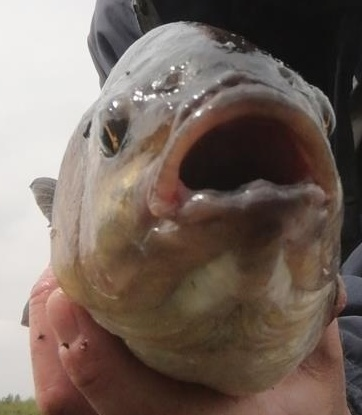Leuciscus idus: (20, 20, 342, 395)
